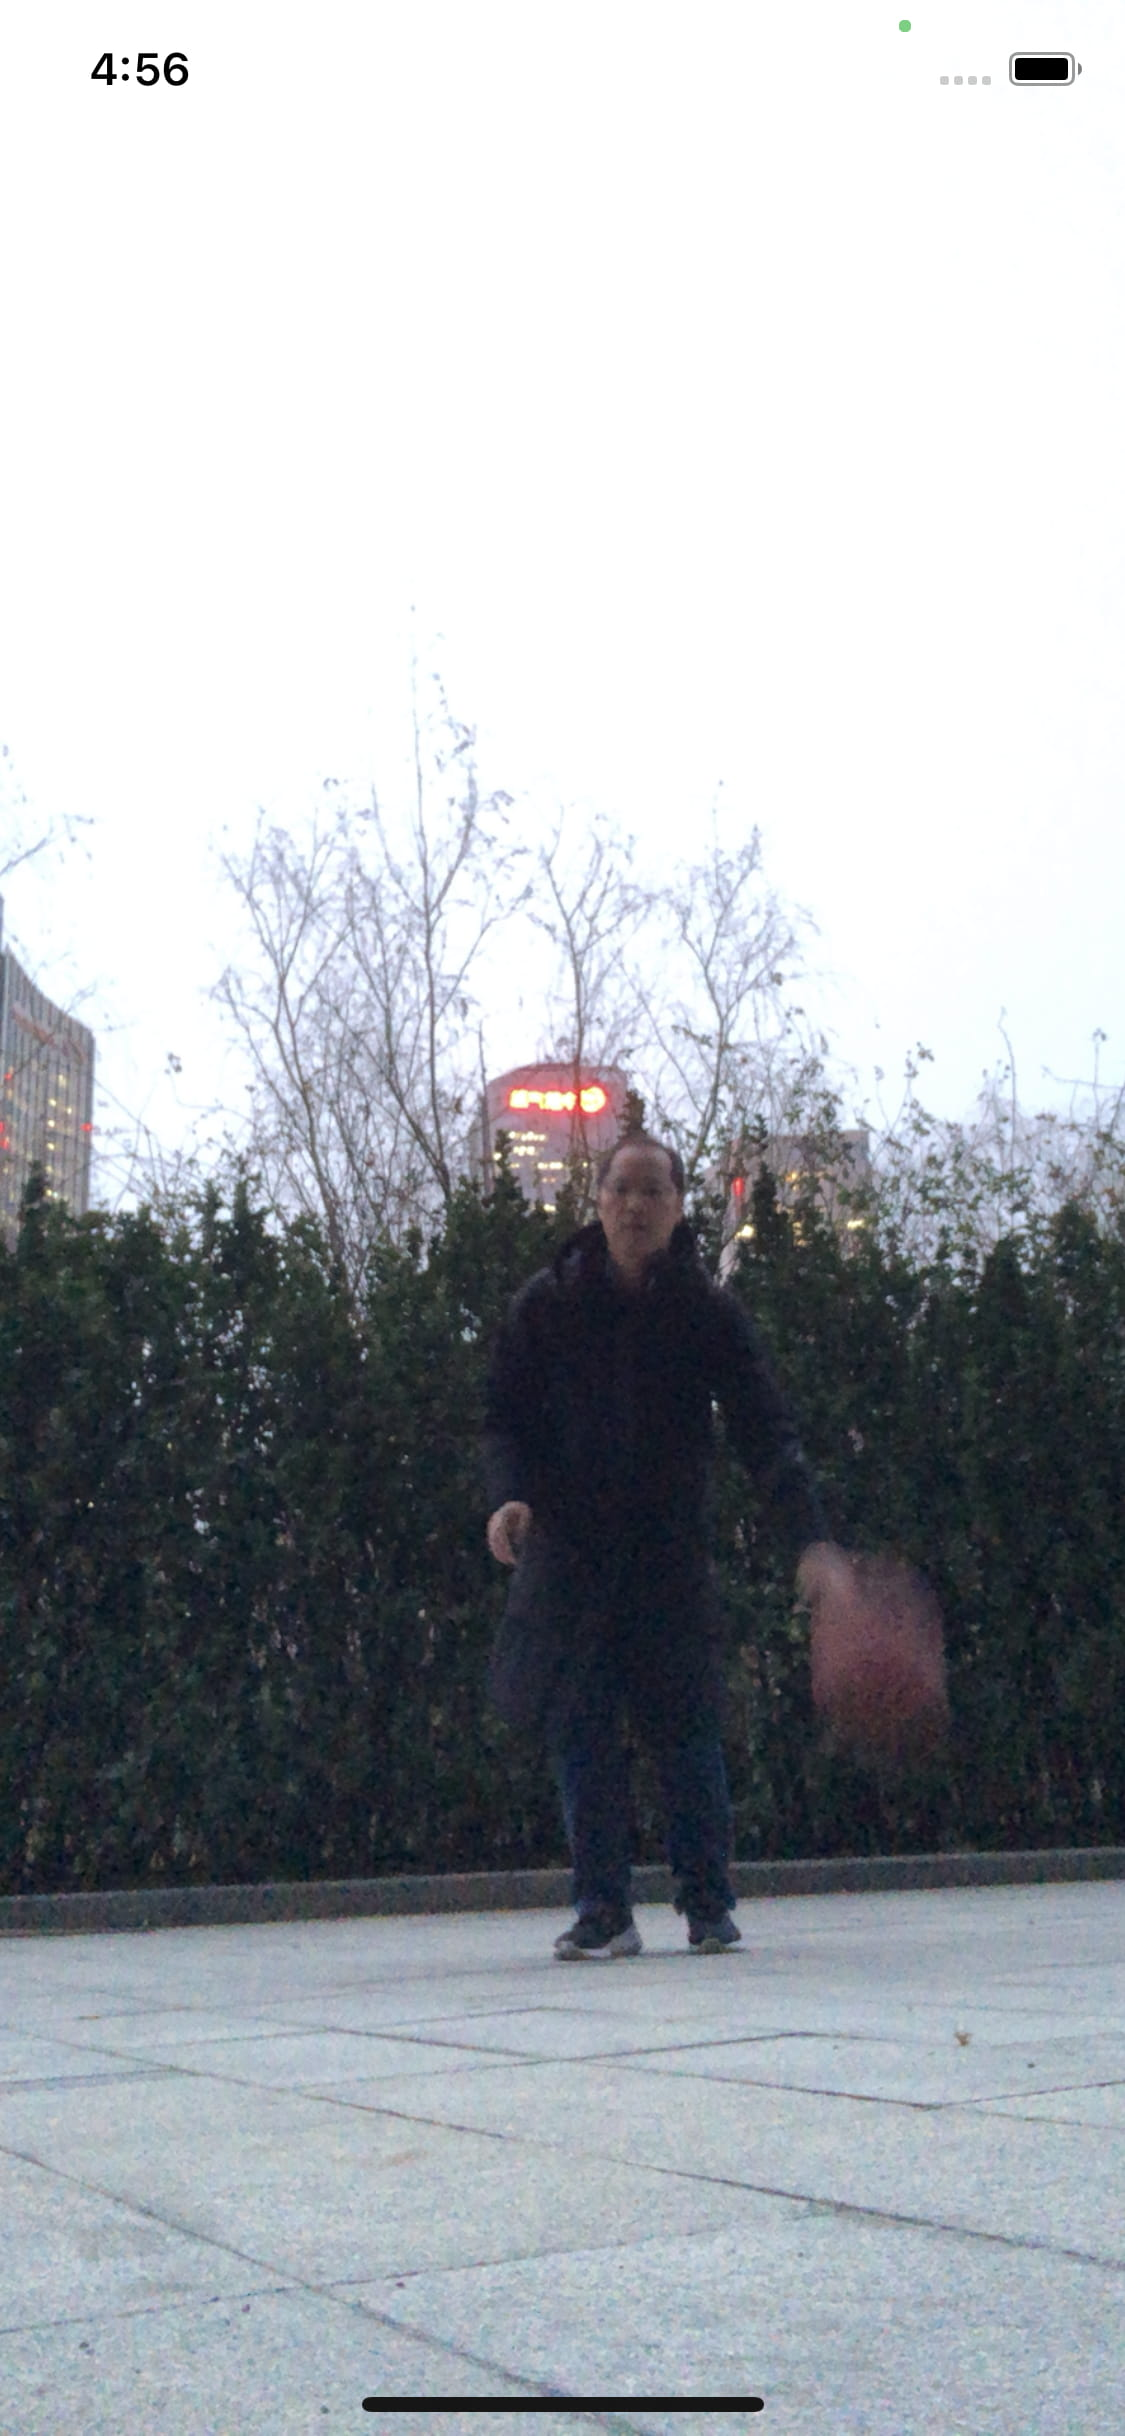ball: (800, 1603, 946, 1731)
